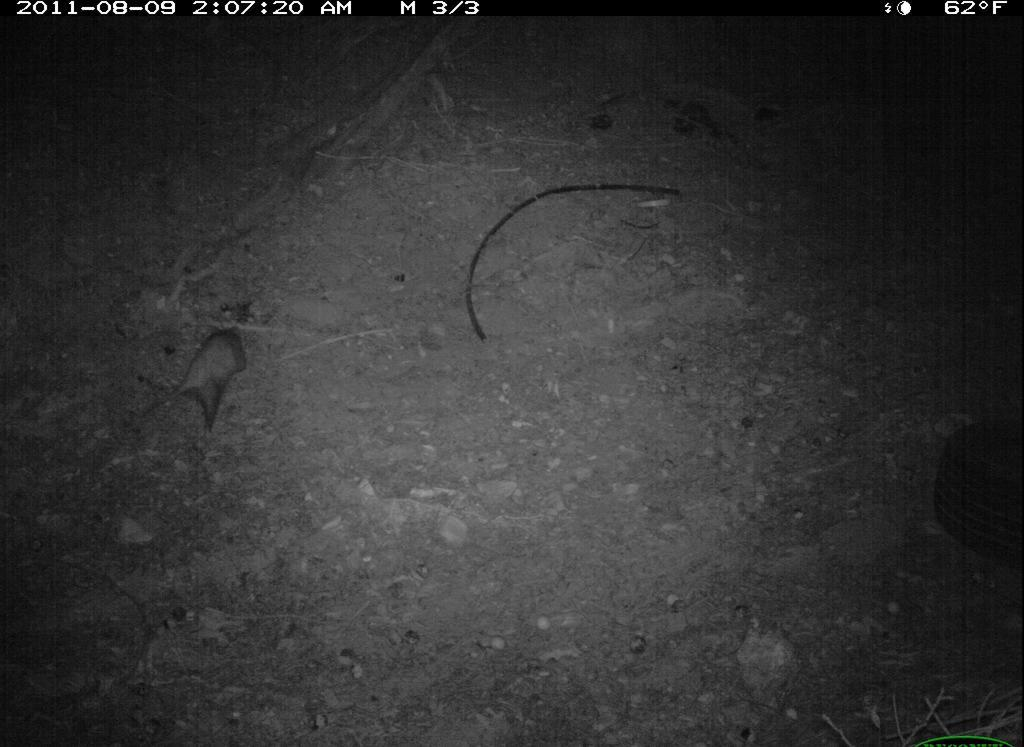opossum: (131, 323, 262, 442)
